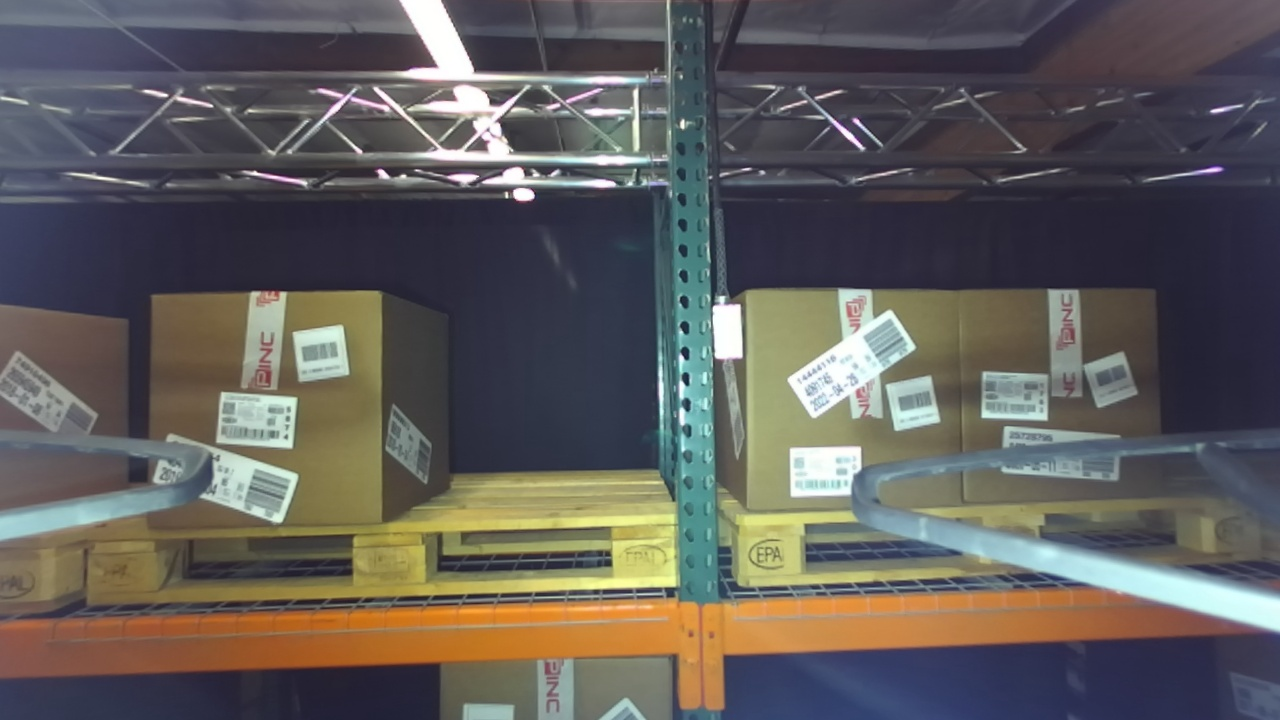box: (133, 271, 419, 554), (729, 261, 990, 532), (945, 262, 1175, 520)
